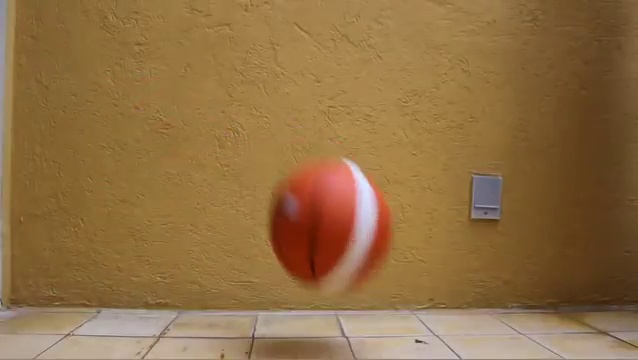ball: (268, 157, 391, 296)
